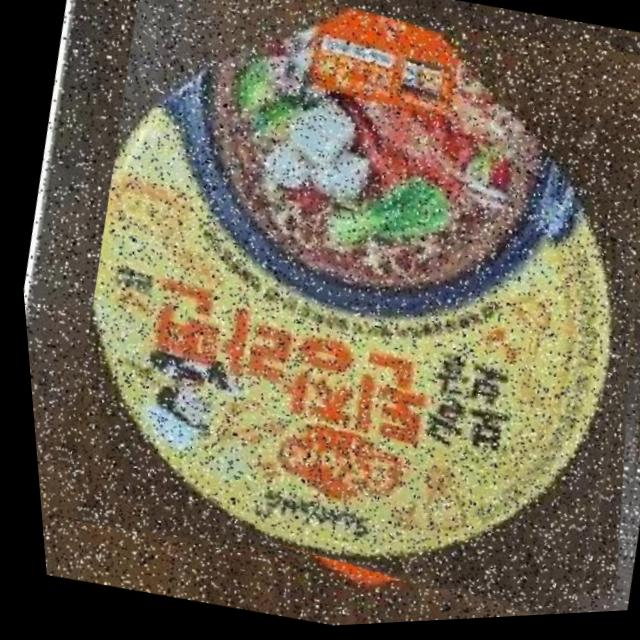Miscellaneous: (17, 0, 640, 639)
